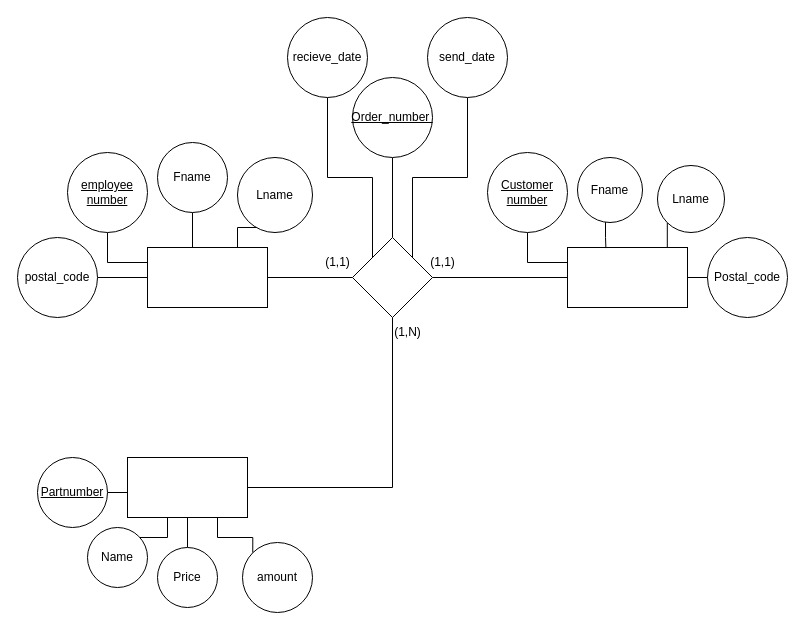
Some shapes in this 805 by 630 pixel diagram are drawn without their labels. Here are the shapes that lost their labels. From the top down, the box of each, then its label:
(146, 246, 268, 308): Employee
(352, 236, 432, 318): order
(566, 246, 688, 308): customer
(126, 456, 248, 518): Sold Part
